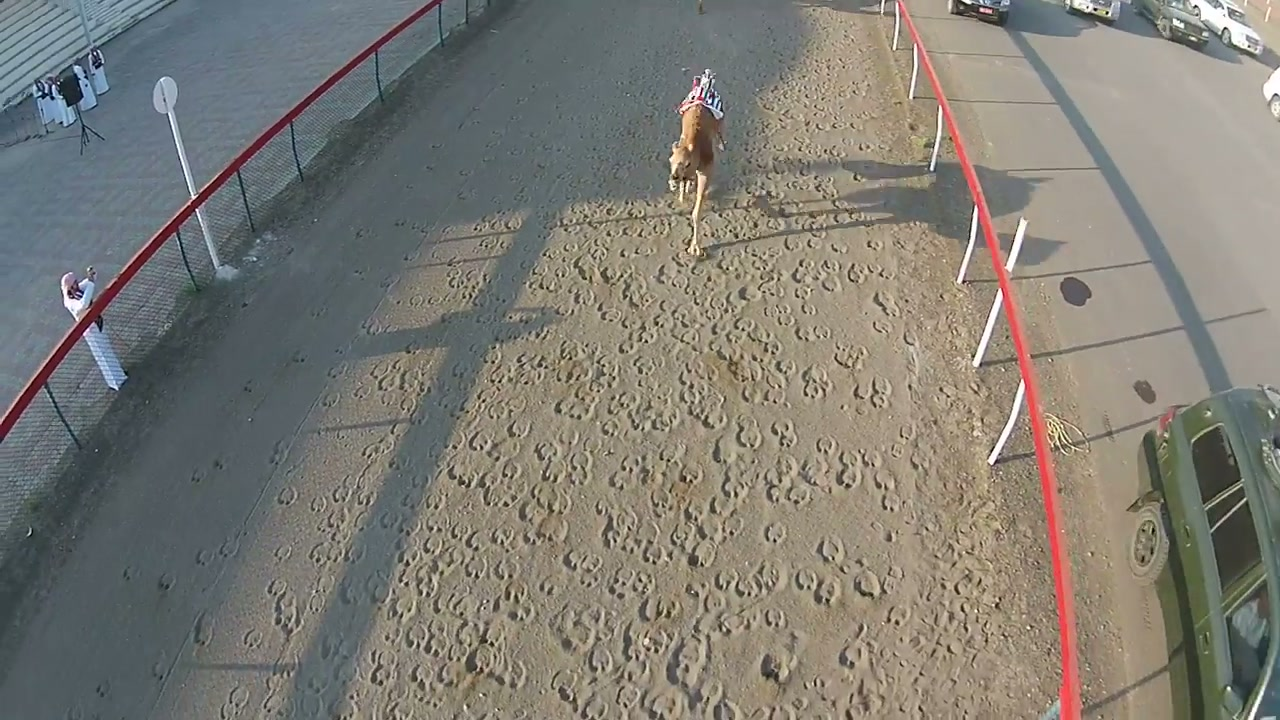animal_footprint: (192, 6, 1026, 719)
